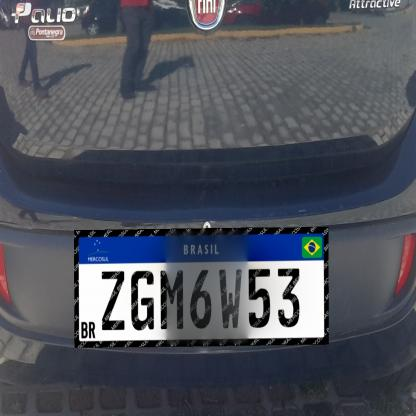PlacaM: (74, 227, 329, 348)
